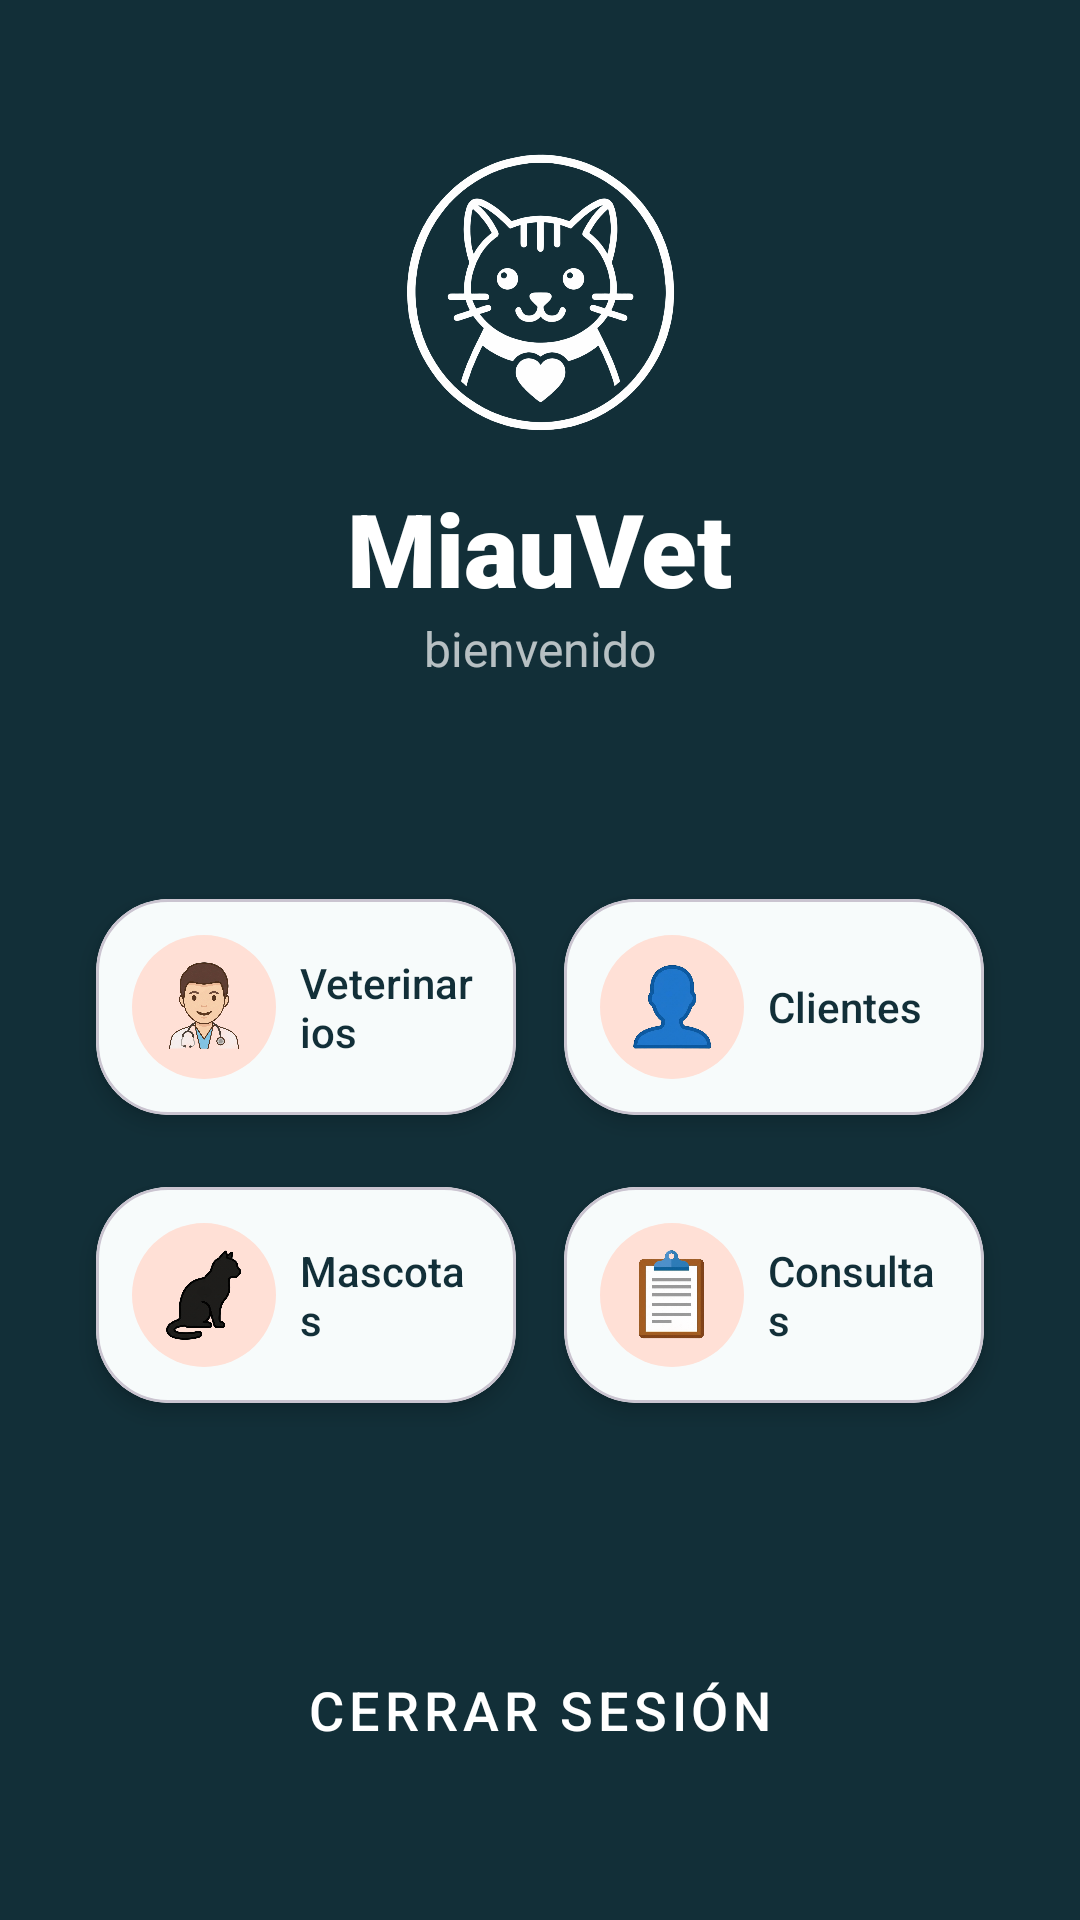

Where icons sit on this 1080x1920 app screen, as [x1=x1, y1=y1, x2=x2, y2=y2]:
cat: [x1=166, y1=1250, x2=241, y2=1340]
notas: [x1=639, y1=1250, x2=704, y2=1338]
vet: [x1=169, y1=962, x2=239, y2=1049]
